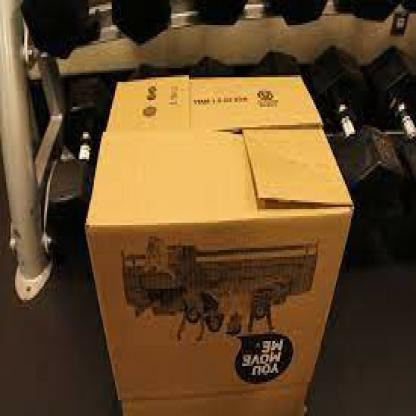package: (84, 75, 356, 416)
